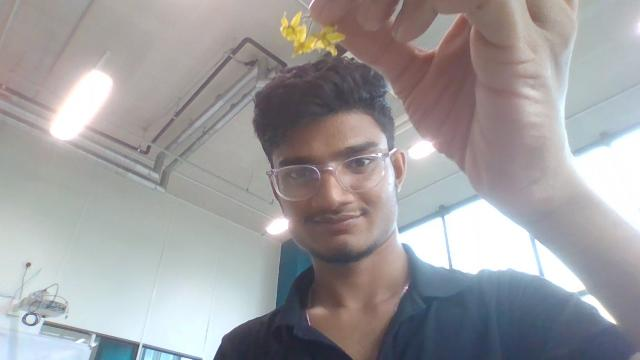Anthesis: (309, 24, 345, 56), (279, 10, 308, 46), (293, 32, 322, 57), (323, 43, 338, 56)
